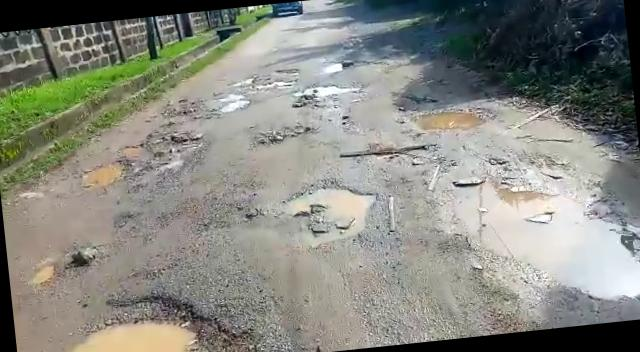pothole: (444, 169, 640, 322), (23, 278, 270, 352), (283, 179, 384, 246), (410, 100, 494, 138), (120, 130, 202, 165), (339, 140, 434, 166), (80, 158, 132, 192), (292, 78, 359, 102), (252, 122, 315, 147), (209, 92, 253, 114), (451, 176, 485, 189)
